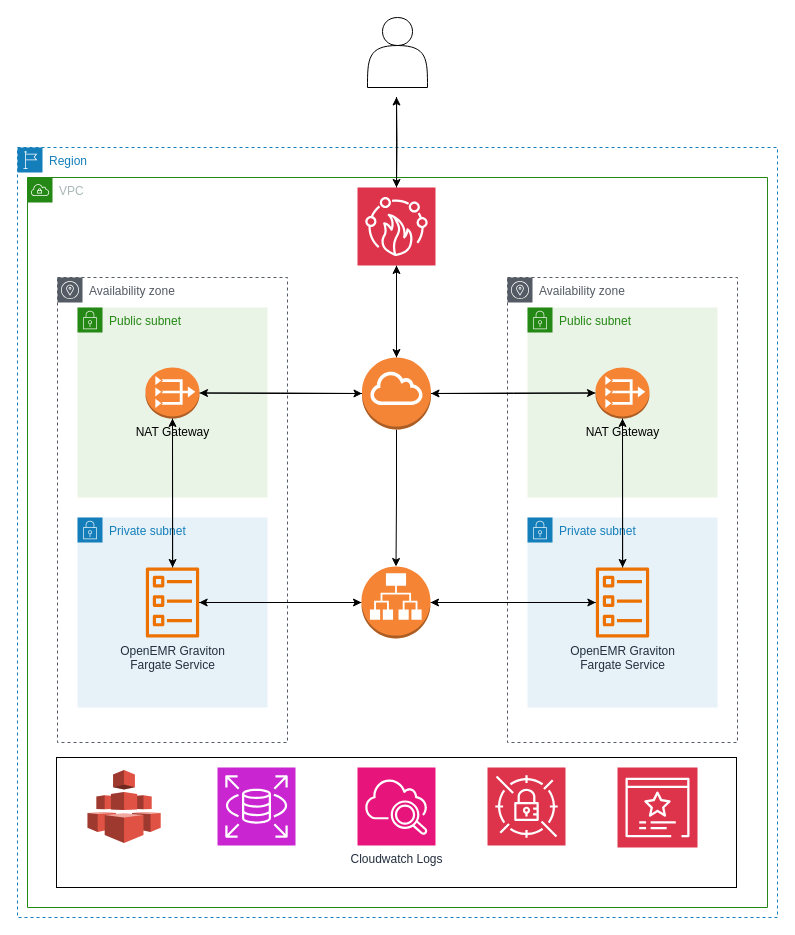
This 795x935 diagram has some shape labels left out. Each missing label, with the box of its shape:
Application Load Balancer: (360, 566, 430, 638)
Certificate Manager: (616, 766, 698, 848)
EFS Serverless File Storage: (86, 769, 161, 843)
Internet Gateway: (361, 356, 431, 430)
RDS Serverless Aurora: (216, 766, 296, 846)
Secrets Manager: (486, 766, 566, 846)
Web Application Firewall: (356, 186, 436, 266)
